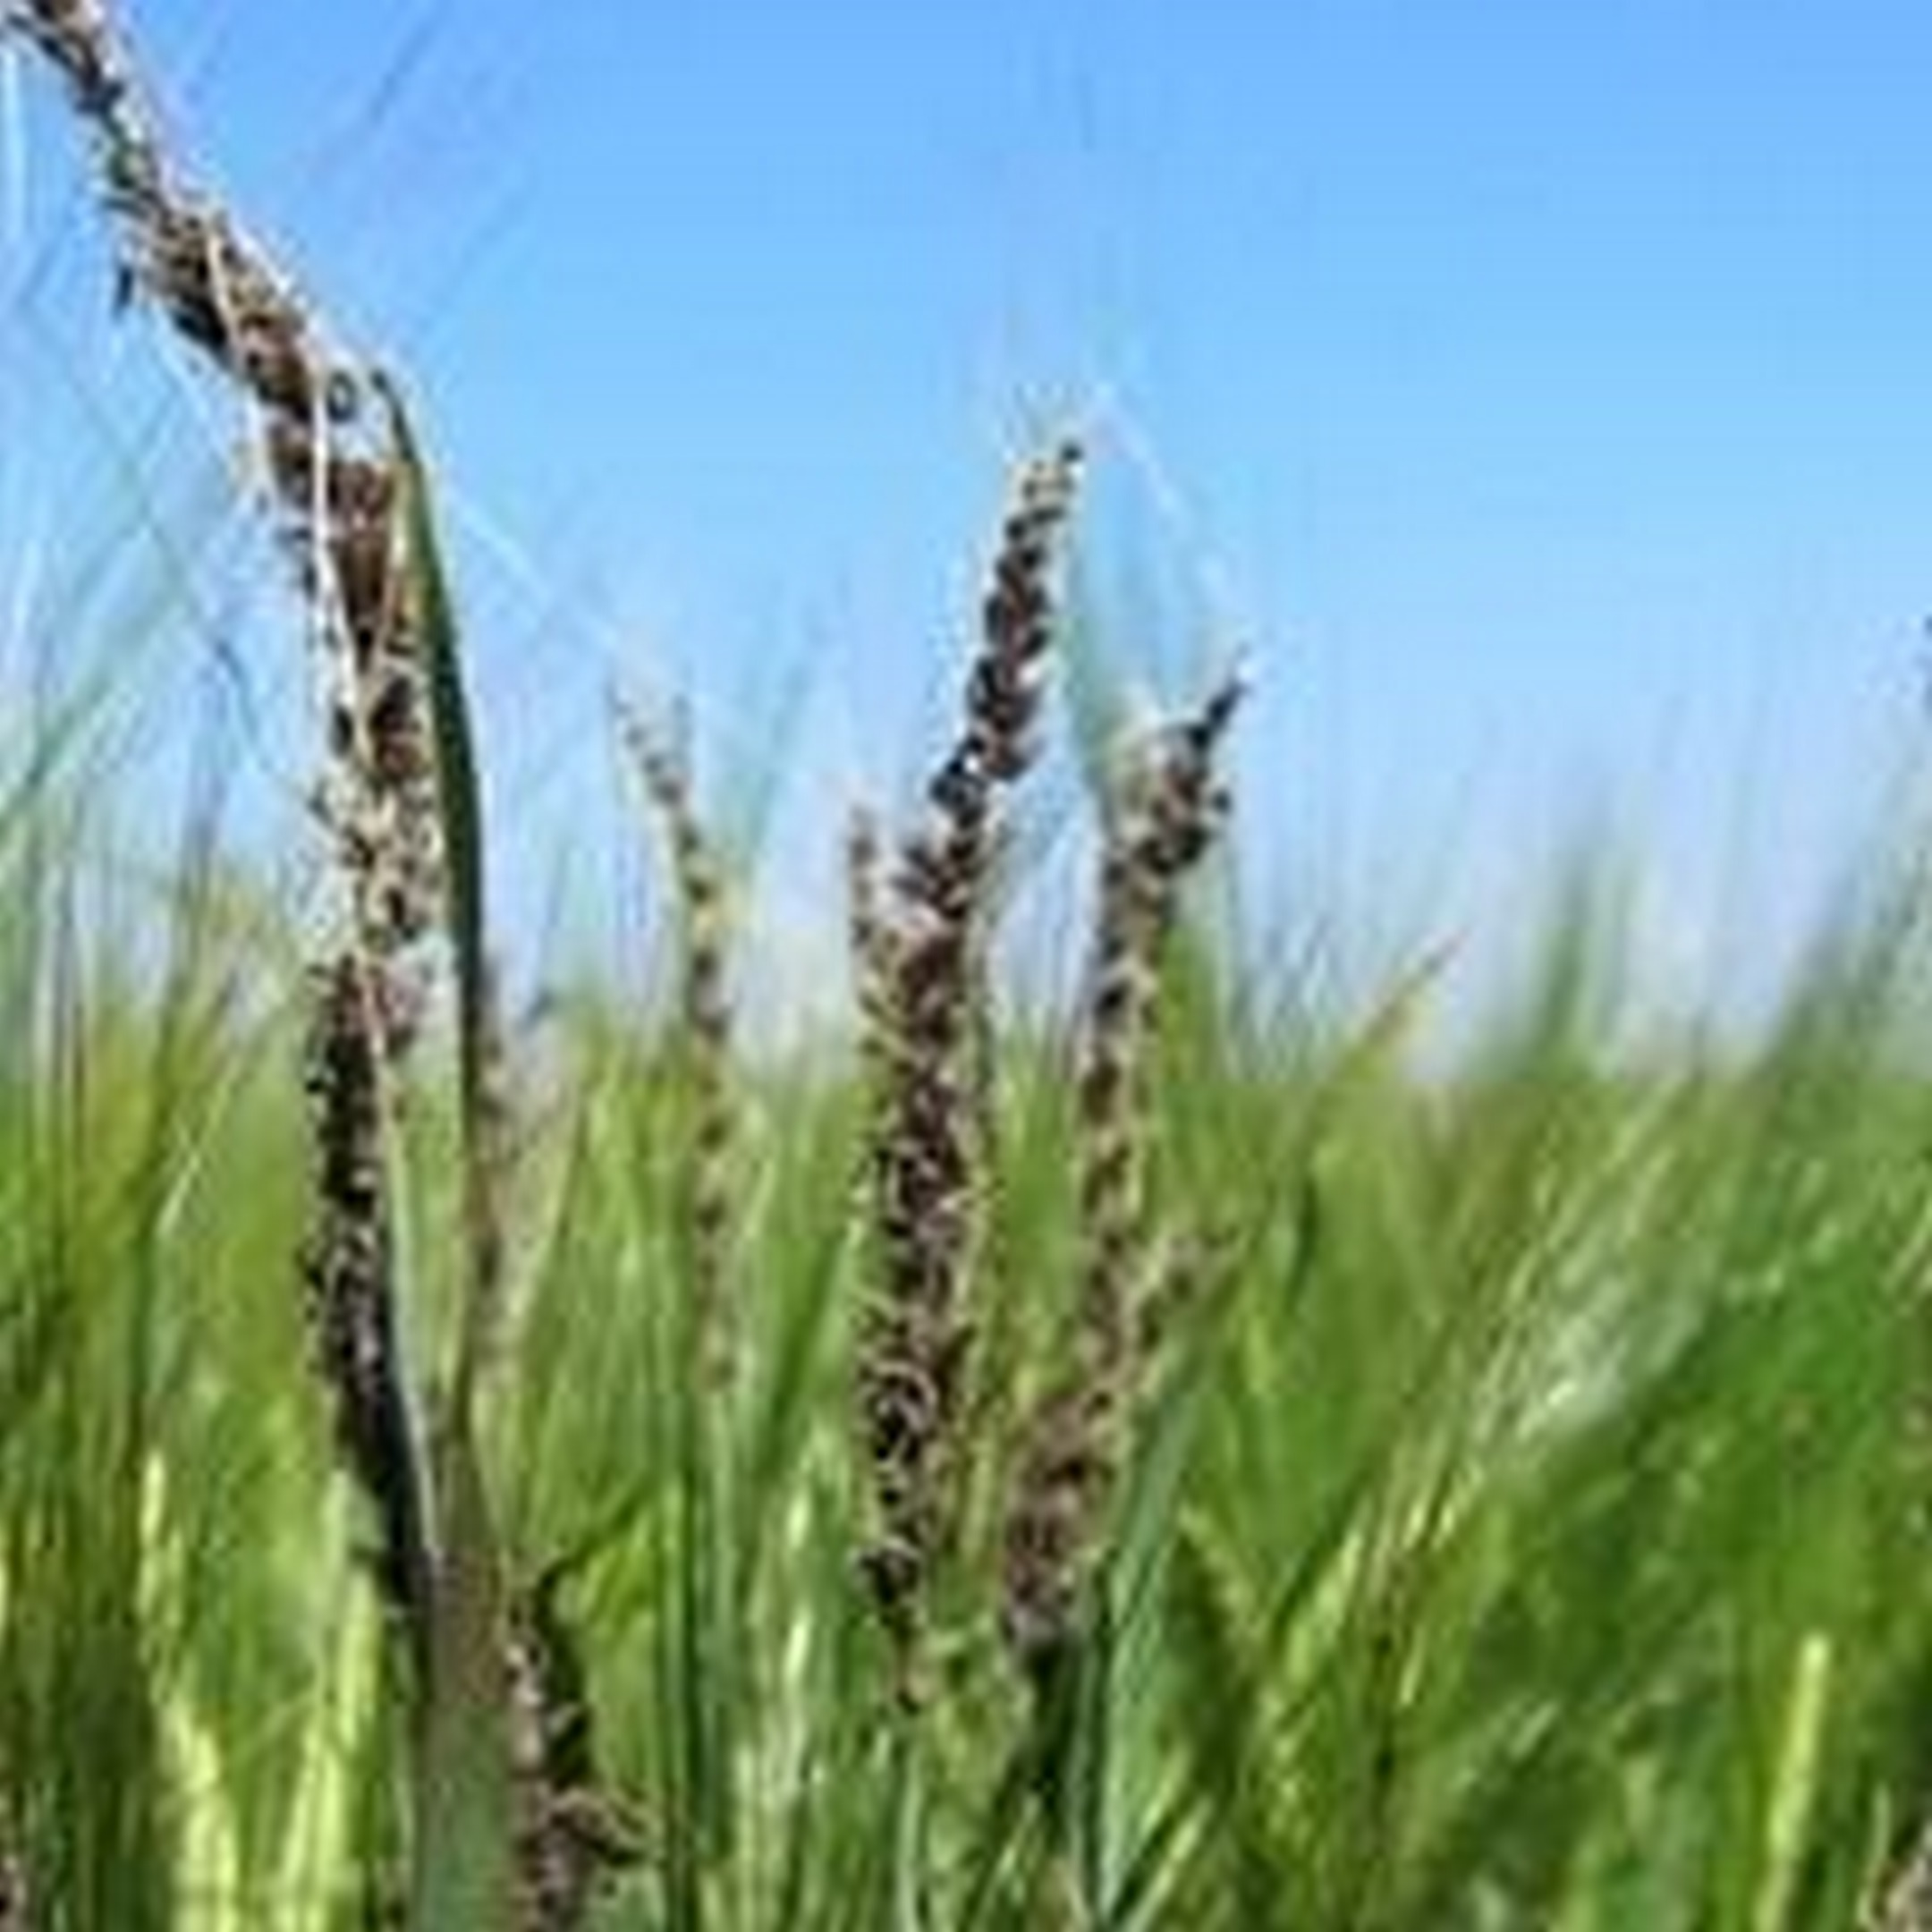Wheat Loose Smut: (816, 418, 1265, 1644)
